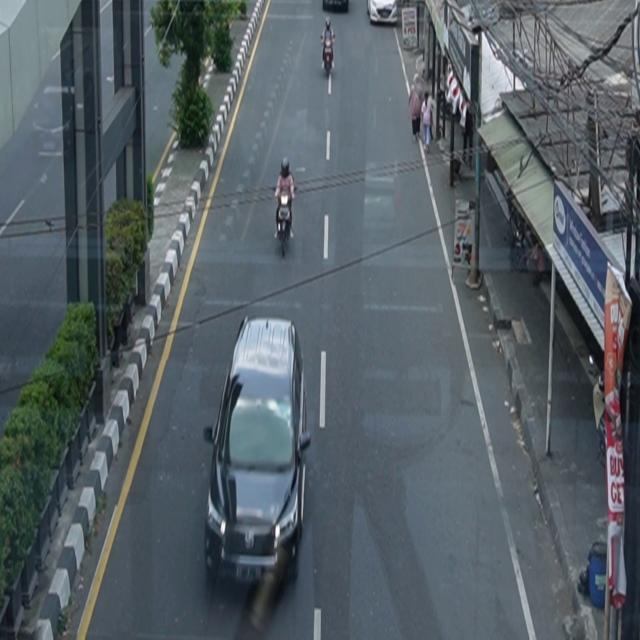car: (204, 316, 312, 587)
